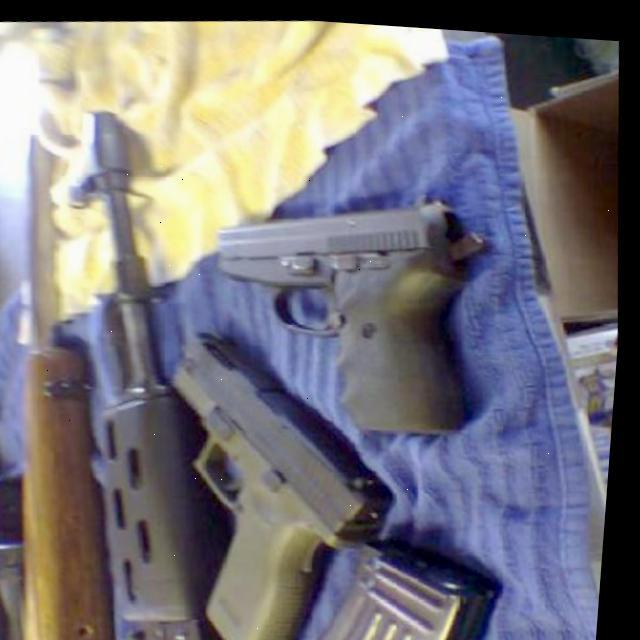gun: (147, 313, 416, 640), (202, 176, 499, 447)
